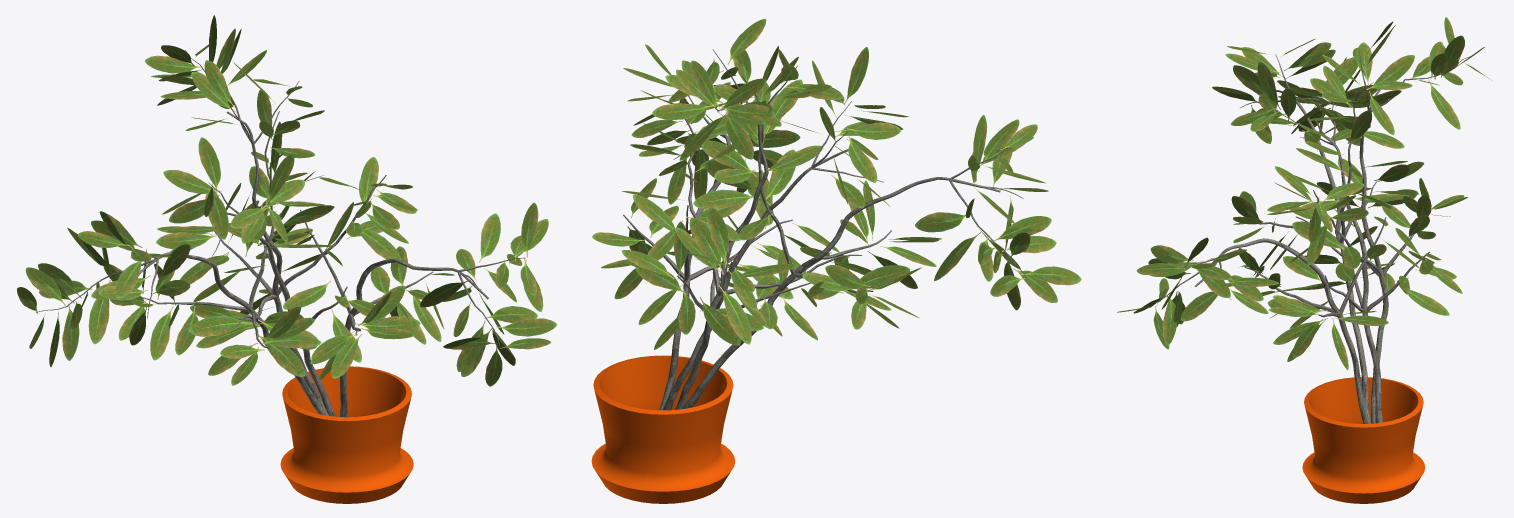
Rendered from Plant.fbx.
3 views of the same model, side by side, from view 1: azimuth 30°, elevation 25°; view 2: azimuth 150°, elevation 25°; view 3: azimuth 270°, elevation 25° (orthographic). The views are drawn at different scales.
Parts seen in each view (by area): view 1: tanaman; view 2: tanaman; view 3: tanaman.
Part boxes in pixels (x1,y1,x2,y2): tanaman: (17, 15, 556, 503); tanaman: (591, 18, 1081, 503); tanaman: (1117, 17, 1491, 503).
Bounding box in the file's own units: 37.97 × 34.04 × 28.91.
Materials: 3 (2 with a texture image).
